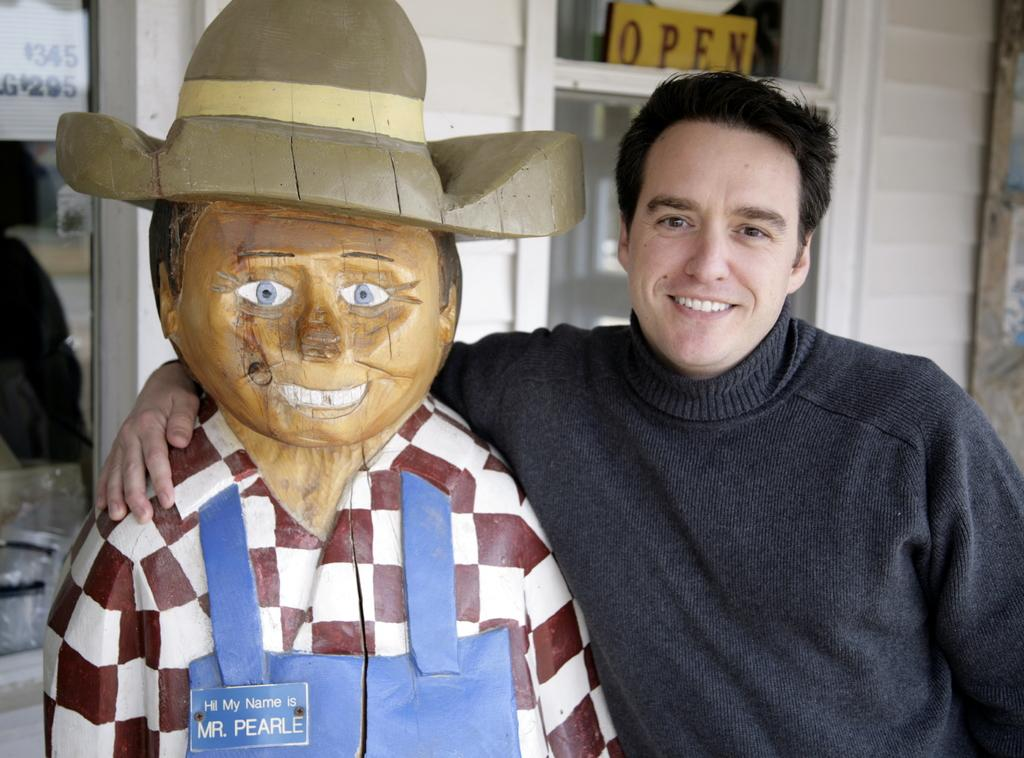Hat: (56, 0, 587, 239)
